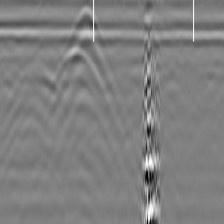Utility: (53, 5, 114, 106)
